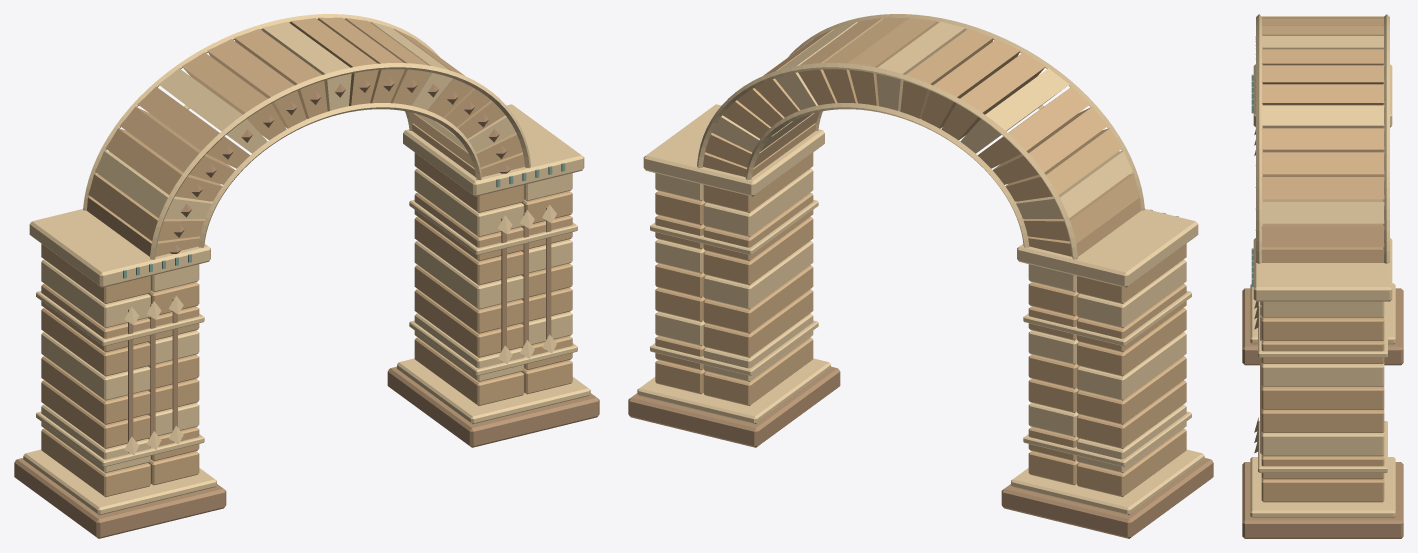
Rendered from ochre_court-component.glb.
The picture shows the model from 3 angles, left to right: view 1: azimuth 30°, elevation 25°; view 2: azimuth 150°, elevation 25°; view 3: azimuth 270°, elevation 25°; orthographic projection. The views are drawn at different scales.
Visible parts, largest first — view 1: runtime_Honey sandstone, runtime_Fresh carved sandstone, runtime_Weathered ochre joints; view 2: runtime_Honey sandstone, runtime_Fresh carved sandstone, runtime_Weathered ochre joints; view 3: runtime_Honey sandstone, runtime_Fresh carved sandstone, runtime_Weathered ochre joints, runtime_Aged copper inlay.
Boxes of the visible parts, x1,y1,x2,y2 form: runtime_Honey sandstone: [41, 17, 572, 497]; runtime_Fresh carved sandstone: [23, 14, 590, 515]; runtime_Weathered ochre joints: [14, 78, 599, 538]; runtime_Honey sandstone: [655, 17, 1186, 497]; runtime_Fresh carved sandstone: [637, 14, 1204, 515]; runtime_Weathered ochre joints: [628, 366, 1213, 538]; runtime_Honey sandstone: [1261, 16, 1384, 502]; runtime_Fresh carved sandstone: [1250, 14, 1395, 517]; runtime_Weathered ochre joints: [1242, 37, 1403, 538]; runtime_Aged copper inlay: [1251, 74, 1253, 286].
Bounding box in the file's own units: 12 × 9.17 × 3.5.
